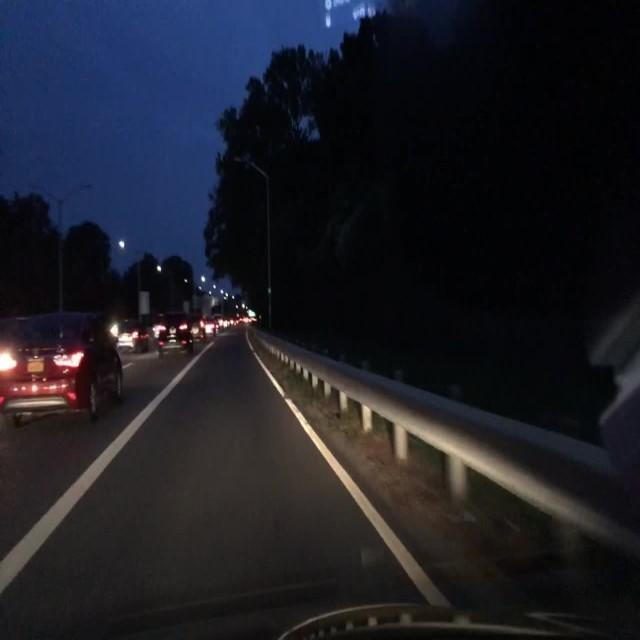normal: (1, 310, 127, 423)
